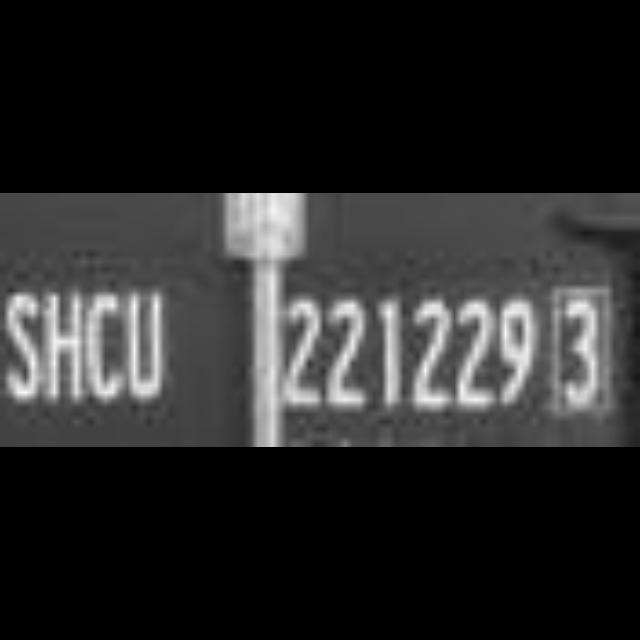1: (374, 292, 408, 408)
2: (324, 292, 372, 411), (284, 291, 326, 411), (411, 293, 454, 409), (456, 292, 496, 406)
3: (559, 294, 603, 410)
9: (497, 291, 537, 409)
c: (85, 288, 125, 404)
h: (44, 288, 88, 407)
s: (1, 292, 44, 406)
u: (124, 286, 168, 406)
